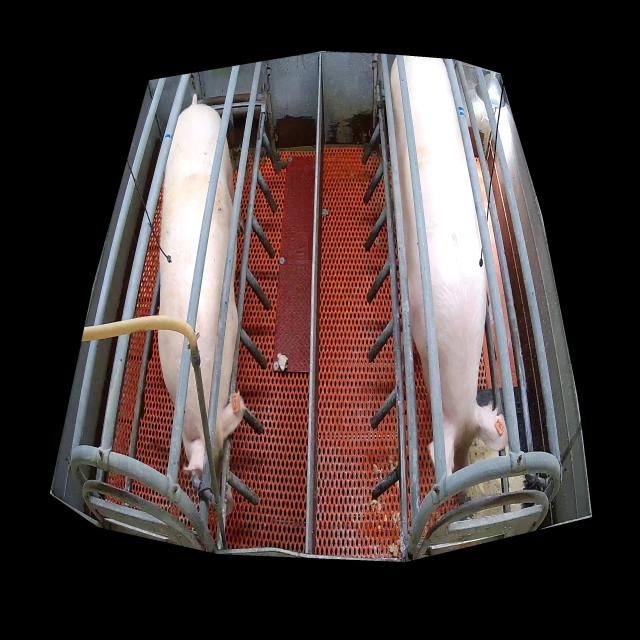pig: (391, 57, 508, 476), (158, 105, 244, 515)
